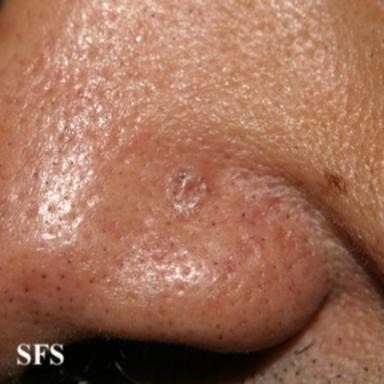basal-cell-carcinoma: (163, 166, 209, 218)
